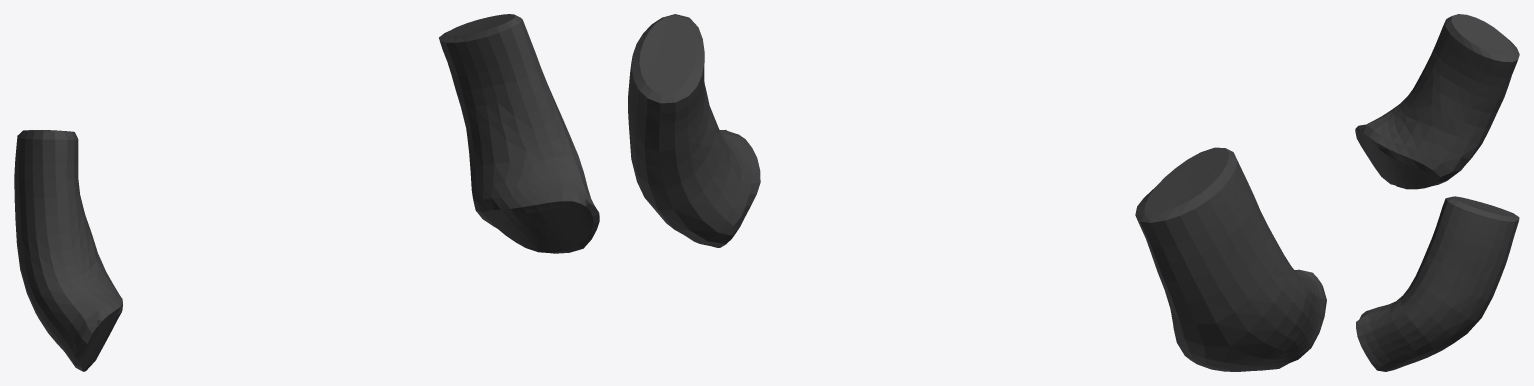
File: Peduncles_middle_low_Peduncles_middle_low.glb
The picture shows the model from 3 angles, left to right: view 1: azimuth 30°, elevation 25°; view 2: azimuth 150°, elevation 25°; view 3: azimuth 270°, elevation 25°; orthographic projection. The views are drawn at different scales.
Parts seen in each view (by area): view 1: Peduncles_middle_low_Peduncles_middle_low; view 2: Peduncles_middle_low_Peduncles_middle_low; view 3: Peduncles_middle_low_Peduncles_middle_low.
Boxes of the visible parts, x1,y1,x2,y2 form: Peduncles_middle_low_Peduncles_middle_low: [14, 14, 599, 371]; Peduncles_middle_low_Peduncles_middle_low: [628, 14, 1326, 371]; Peduncles_middle_low_Peduncles_middle_low: [1355, 14, 1519, 371].
Size of the model in its own units: 26.13 by 9.72 by 8.47.
Materials: 1 (1 with a texture image).
